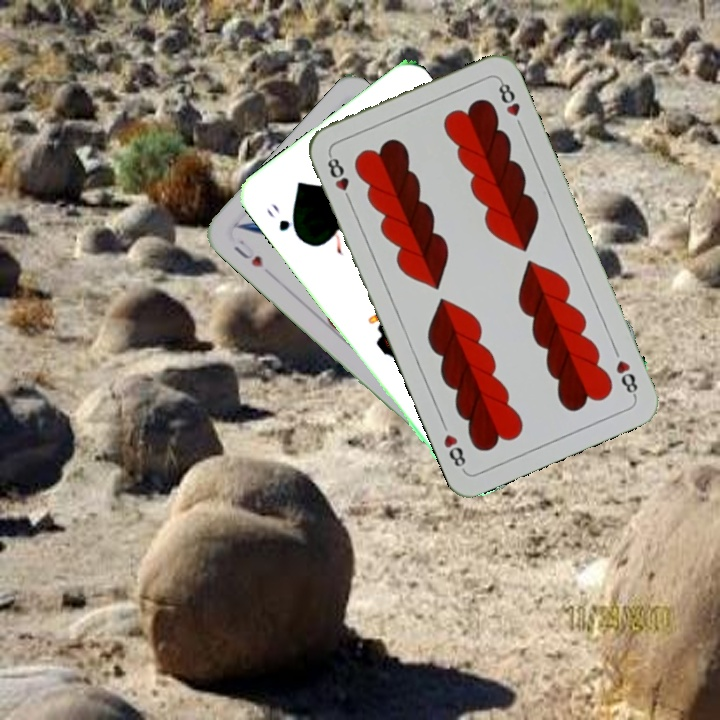GO: (262, 199, 304, 242)
H8: (323, 150, 355, 206), (612, 356, 641, 400)
HU: (229, 235, 266, 270)
